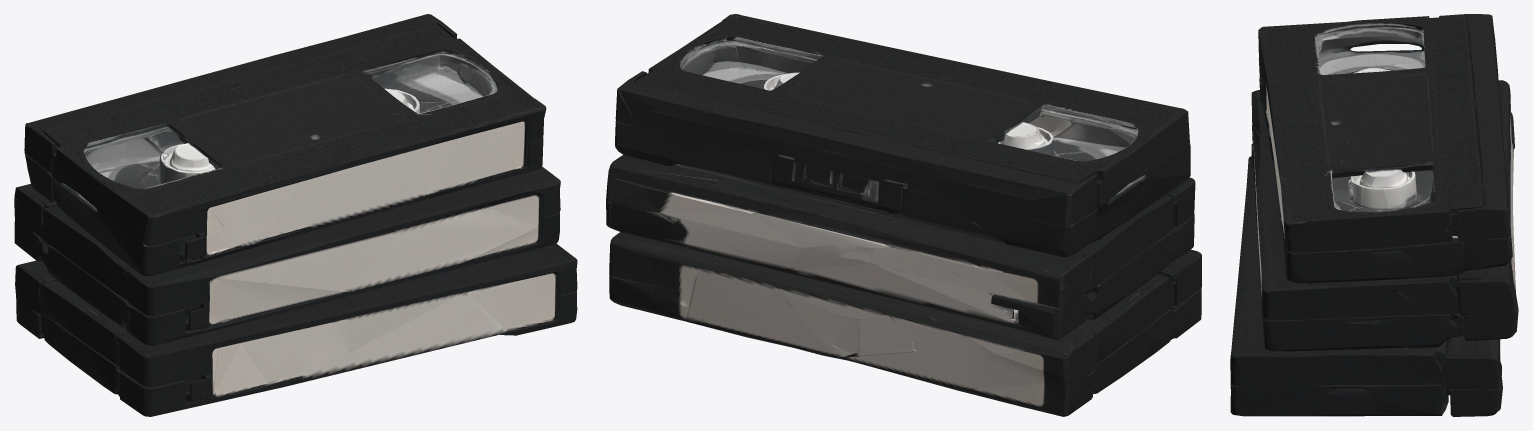
File: cassette.glb
3 views of the same model, side by side, from view 1: azimuth 30°, elevation 25°; view 2: azimuth 150°, elevation 25°; view 3: azimuth 270°, elevation 25° (orthographic). The views are drawn at different scales.
Parts seen in each view (by area): view 1: Mesh_0; view 2: Mesh_0; view 3: Mesh_0.
Part boxes in pixels (box(x1,y1,x2,y2)): Mesh_0: box(14, 14, 577, 416); Mesh_0: box(606, 14, 1201, 416); Mesh_0: box(1230, 14, 1518, 416).
Size of the model in its own units: 1.9 by 0.8852 by 1.12.
Materials: 1 (1 with a texture image).
